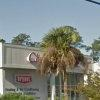Palm tree: (41, 25, 79, 92)
